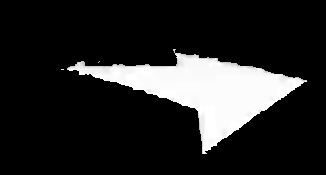Plane: (53, 29, 319, 162)
